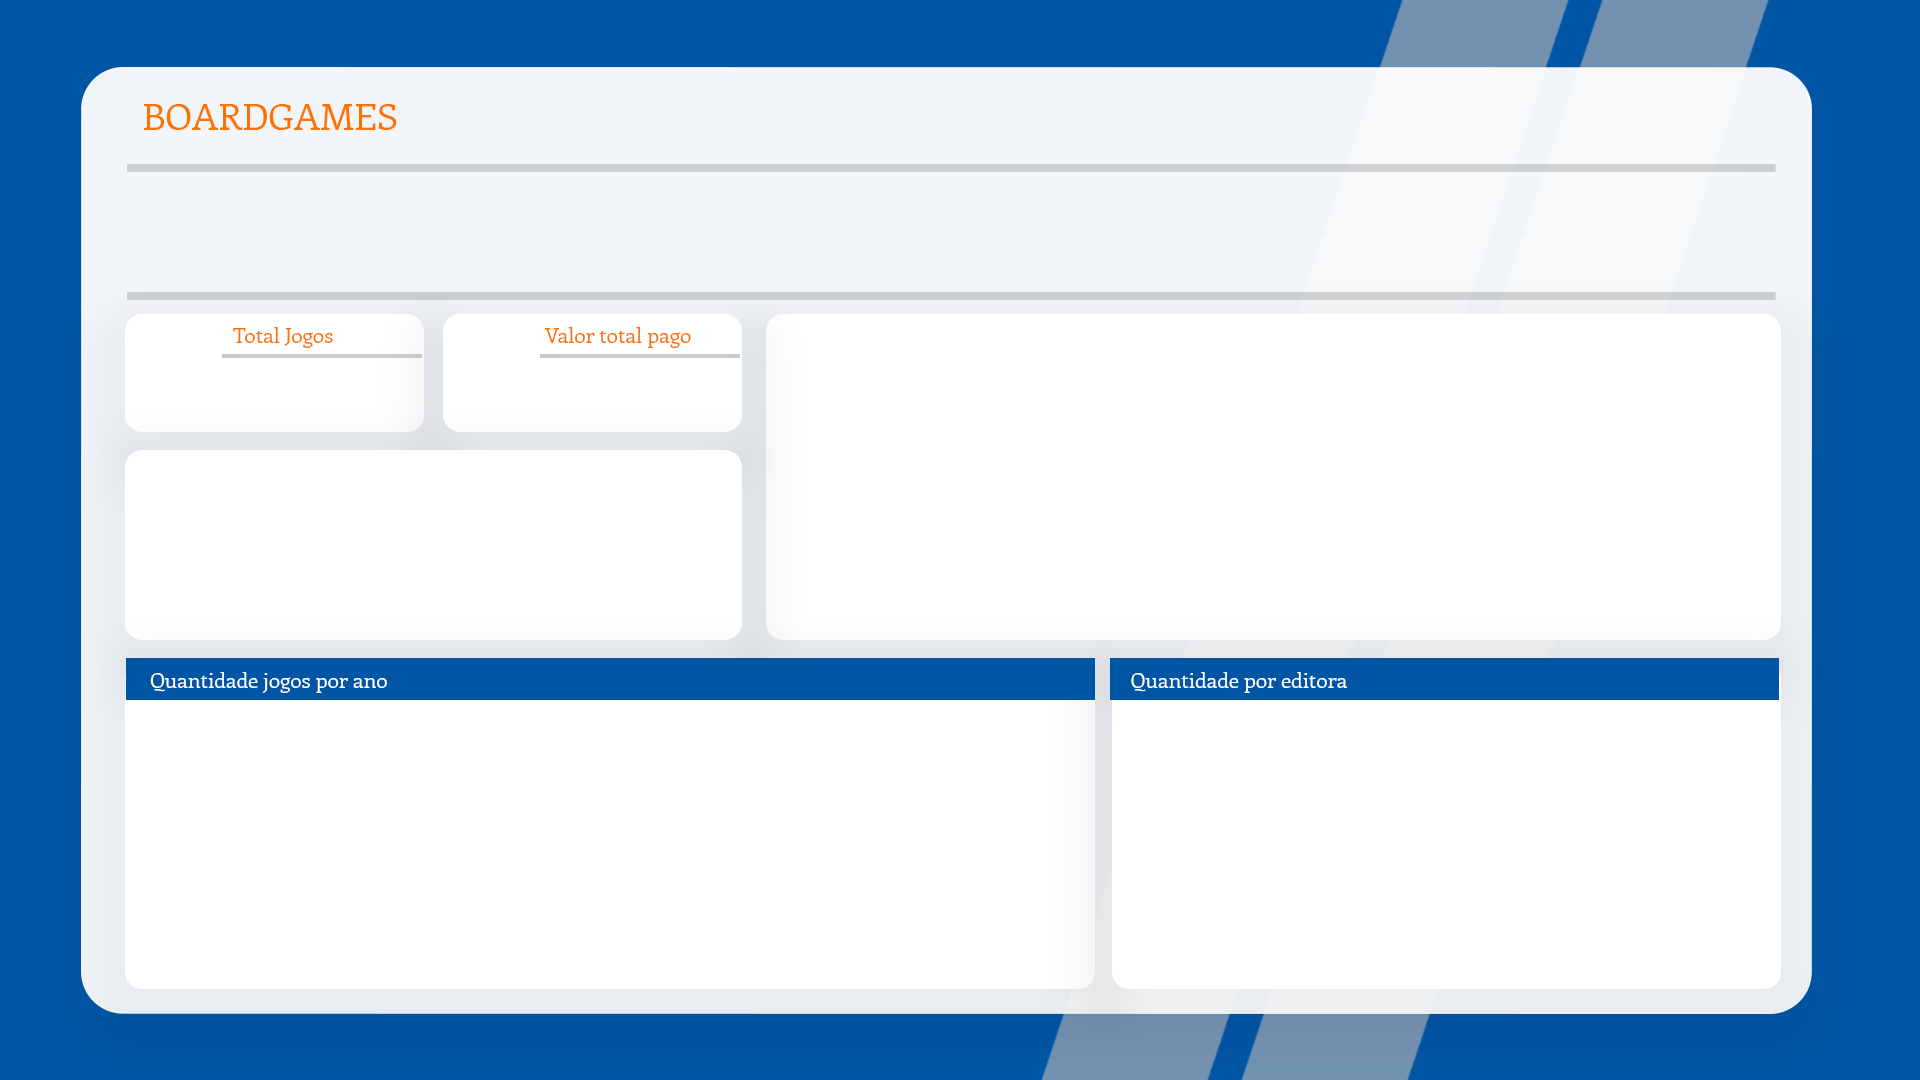

The page's visual inventory and layout, read from the dashboard file:
{"tool":"powerbi","page":{"name":"Página 1","canvas":[1280,720],"ordinal":0},"visuals":[{"type":"slicer","fields":{"Values":["Planilha1.NOME"]},"box":[892.1,127.3,291.5,56.2],"z":0},{"type":"slicer","fields":{"Values":["Planilha1.GENERO"]},"box":[627.8,127.3,252,56.2],"z":1000},{"type":"slicer","fields":{"Values":["Planilha1.QTD_JOGADORES"]},"box":[348.6,127.3,264.3,56.2],"z":2000},{"type":"slicer","fields":{"Values":["Planilha1.EDITORA"]},"box":[85.2,127.3,248.5,56.2],"z":3000},{"type":"actionButton","box":[334.5,61.5,118.5,31.6],"z":4000},{"type":"card","fields":{"Values":["Sum(Planilha1.PREÇO)"]},"box":[360,245.9,122,35.1],"z":5000},{"type":"card","fields":{"Values":["Medidas.QtdJogosConcat"]},"box":[148.4,247.6,112.4,30.7],"z":6000},{"type":"tableEx","fields":{"Values":["Planilha1.NOME","Sum(Planilha1.ANO_COMPRA)","Sum(Planilha1.COMPLEXIDADE)","Planilha1.EDITORA","Sum(Planilha1.PREÇO)","Planilha1.GENERO"]},"box":[516.3,214.2,667.3,214.2],"z":7000},{"type":"columnChart","fields":{"Category":["Planilha1.ANO_COMPRA"],"Y":["Medidas.TotalJogos"]},"box":[85.2,454,634.8,205.5],"z":8000},{"type":"simpleImageEBC4593F96F1425FB3D84C5BF02B5075","fields":{"imageURL":["Planilha1.LINK"]},"box":[88.7,305.6,118.5,114.1],"z":9000},{"type":"image","box":[301.2,214.2,59.7,64.1],"z":10000},{"type":"image","box":[85.2,221.3,63.2,52.7],"z":11000},{"type":"barChart","fields":{"Category":["Planilha1.EDITORA"],"Y":["CountNonNull(Planilha1.EDITORA)"]},"box":[740.2,455.7,443.4,203.7],"z":12000},{"type":"slicer","fields":{"Values":["Planilha1.ANO_COMPRA"]},"box":[453.1,52.7,753.4,48.3],"z":13000},{"type":"multiRowCard","fields":{"Values":["Sum(Planilha1.QTD_JOGADORES)","Sum(Planilha1.RANK)","Sum(Planilha1.TEMPO_ESTIMADO)","Sum(Planilha1.ANO)"]},"box":[213.4,308.2,272.2,114.1],"z":14000},{"type":"image","box":[1170.4,635.7,72.9,75.5],"z":15000},{"type":"image","box":[44.8,23.7,60.6,57.1],"z":16000}]}

Visuals, with their boxes in screenshot pixels (x1, y1, x2, y2), scaled from the page's 1280x720 canvas onto the 1920x1080 screenshot:
slicer - Planilha1.NOME: {"x1": 1338, "y1": 191, "x2": 1775, "y2": 275}
slicer - Planilha1.GENERO: {"x1": 942, "y1": 191, "x2": 1320, "y2": 275}
slicer - Planilha1.QTD_JOGADORES: {"x1": 523, "y1": 191, "x2": 919, "y2": 275}
slicer - Planilha1.EDITORA: {"x1": 128, "y1": 191, "x2": 501, "y2": 275}
actionButton: {"x1": 502, "y1": 92, "x2": 680, "y2": 140}
card - Sum(Planilha1.PREÇO): {"x1": 540, "y1": 369, "x2": 723, "y2": 422}
card - Medidas.QtdJogosConcat: {"x1": 223, "y1": 371, "x2": 391, "y2": 417}
tableEx - Planilha1.NOME x Sum(Planilha1.ANO_COMPRA): {"x1": 774, "y1": 321, "x2": 1775, "y2": 643}
columnChart - Planilha1.ANO_COMPRA x Medidas.TotalJogos: {"x1": 128, "y1": 681, "x2": 1080, "y2": 989}
simpleImageEBC4593F96F1425FB3D84C5BF02B5075 - Planilha1.LINK: {"x1": 133, "y1": 458, "x2": 311, "y2": 630}
image: {"x1": 452, "y1": 321, "x2": 541, "y2": 417}
image: {"x1": 128, "y1": 332, "x2": 223, "y2": 411}
barChart - Planilha1.EDITORA x CountNonNull(Planilha1.EDITORA): {"x1": 1110, "y1": 684, "x2": 1775, "y2": 989}
slicer - Planilha1.ANO_COMPRA: {"x1": 680, "y1": 79, "x2": 1810, "y2": 152}
multiRowCard - Sum(Planilha1.QTD_JOGADORES) x Sum(Planilha1.RANK): {"x1": 320, "y1": 462, "x2": 728, "y2": 633}
image: {"x1": 1756, "y1": 954, "x2": 1865, "y2": 1067}
image: {"x1": 67, "y1": 36, "x2": 158, "y2": 121}
